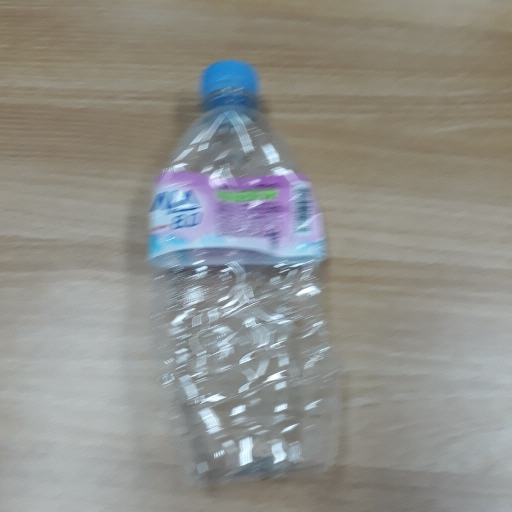Plastic_0: (148, 62, 344, 484)
